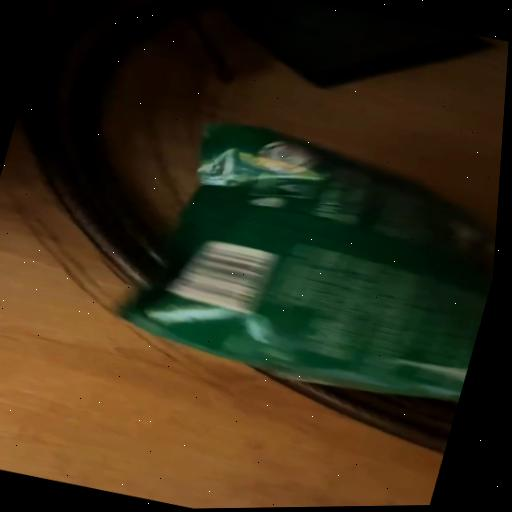cafe_xay: (122, 124, 496, 402)
